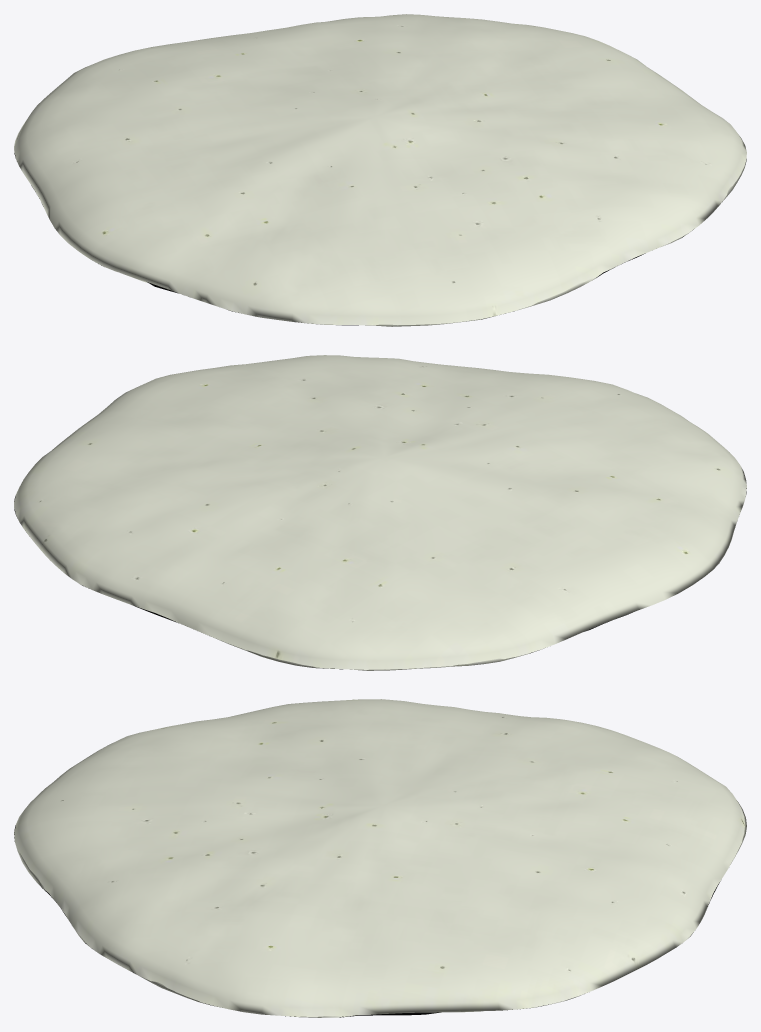
Rendered from mayo_garlic.glb.
3 renders of one model, top to bottom at view 1: azimuth 30°, elevation 25°; view 2: azimuth 150°, elevation 25°; view 3: azimuth 270°, elevation 25°, orthographic. The views are drawn at different scales.
Parts seen in each view (by area): view 1: EX_Mayo_garlic; view 2: EX_Mayo_garlic; view 3: EX_Mayo_garlic.
Part boxes in pixels (<box>): EX_Mayo_garlic: <box>14,14,746,326</box>; EX_Mayo_garlic: <box>14,355,746,670</box>; EX_Mayo_garlic: <box>14,699,746,1017</box>.
Bounding box in the file's own units: 0.0928 × 0.00807 × 0.0929.
Materials: 1 (1 with a texture image).
